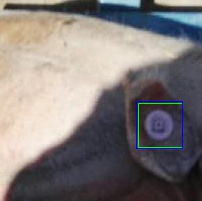text: (138, 103, 182, 147)
